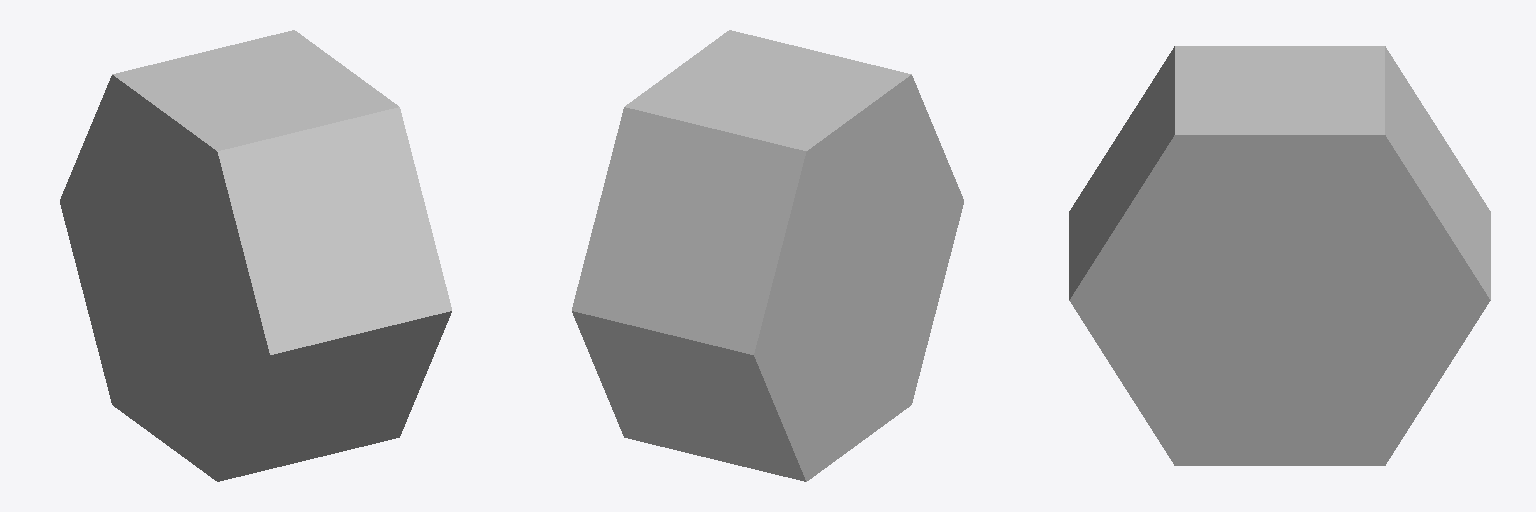
Rendered from Mouse Wheel.obj.
The picture shows the model from 3 angles: view 1: azimuth 30°, elevation 25°; view 2: azimuth 150°, elevation 25°; view 3: azimuth 270°, elevation 25°; orthographic projection.
Visible parts, largest first — view 1: Mouse_Wheel; view 2: Mouse_Wheel; view 3: Mouse_Wheel.
Part boxes in pixels (bbox=[...]): Mouse_Wheel: bbox=[60, 30, 451, 481]; Mouse_Wheel: bbox=[572, 30, 963, 481]; Mouse_Wheel: bbox=[1069, 46, 1490, 465].
Size of the model in its own units: 0.0139 by 0.0242 by 0.0279.